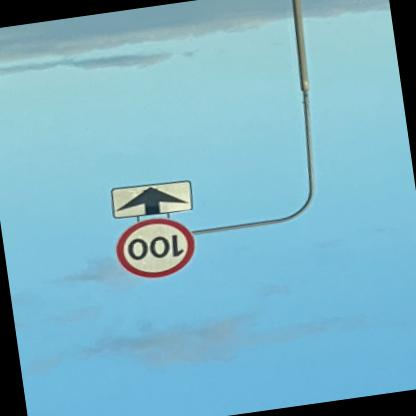speedlimit: (114, 215, 200, 283)
